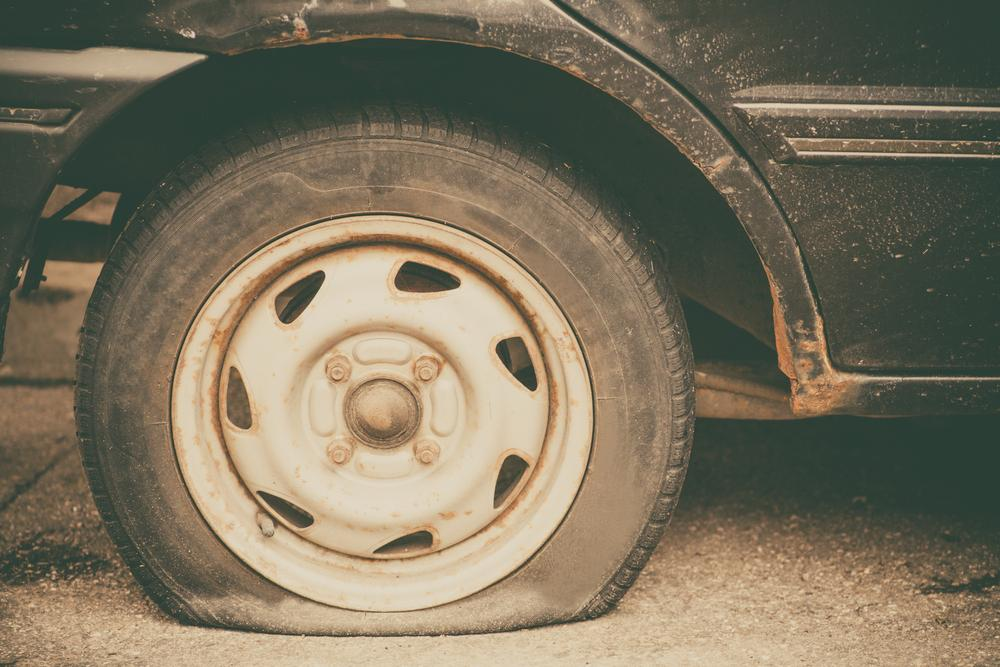tire flat: (73, 94, 698, 637)
